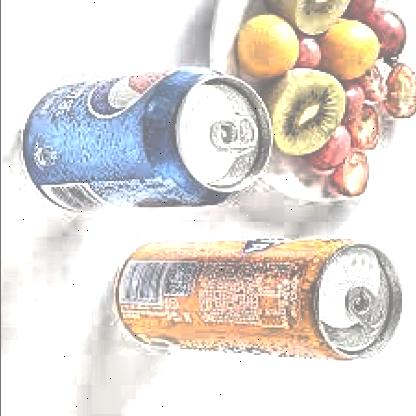Can: (12, 54, 278, 222), (99, 235, 409, 365)
